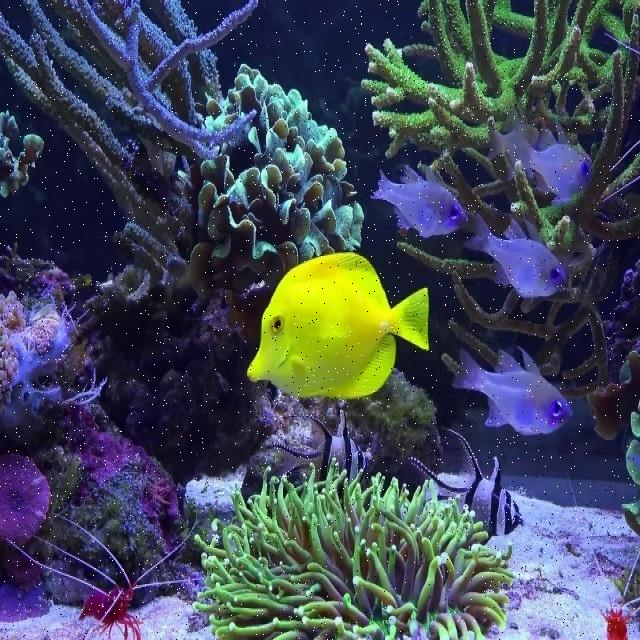fish: (245, 257, 431, 400), (412, 428, 525, 532), (455, 347, 574, 436), (464, 214, 567, 298), (371, 162, 469, 239), (266, 409, 377, 476), (509, 120, 589, 199)
reefs: (364, 0, 640, 382), (0, 1, 254, 274), (194, 459, 516, 639), (176, 68, 365, 286), (5, 510, 207, 637), (0, 266, 73, 426), (601, 601, 630, 639)
